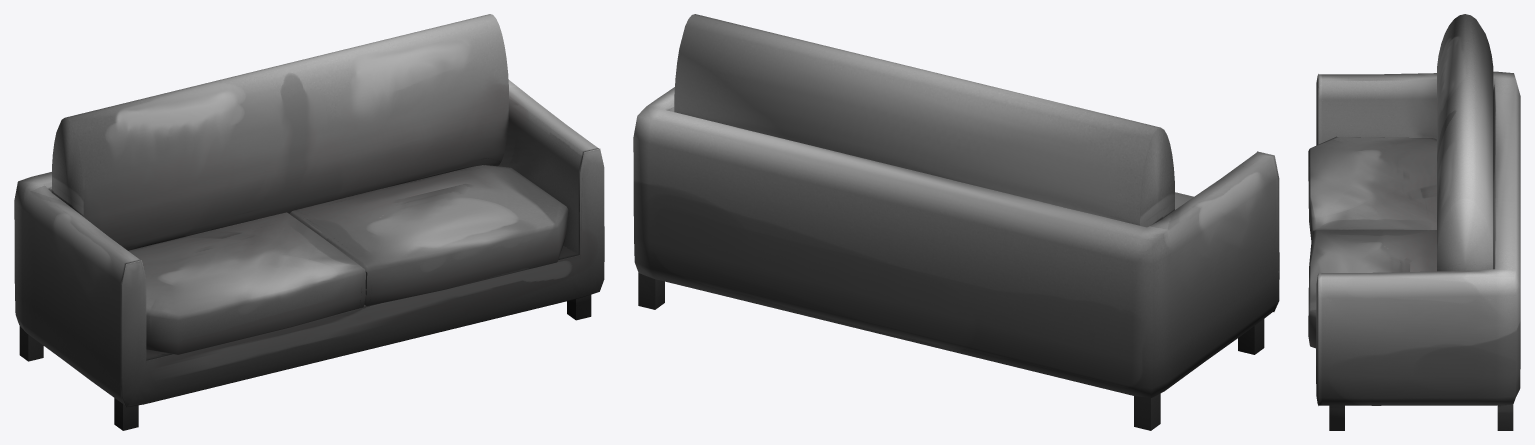
The model's file is Sofa.fbx.
The picture shows the model from 3 angles, left to right: view 1: azimuth 30°, elevation 25°; view 2: azimuth 150°, elevation 25°; view 3: azimuth 270°, elevation 25°; orthographic projection. The views are drawn at different scales.
Parts seen in each view (by area): view 1: M_Sofa; view 2: M_Sofa; view 3: M_Sofa.
Part boxes in pixels (left/top/right/bottom): M_Sofa: left=14, top=14, right=604, bottom=430; M_Sofa: left=633, top=14, right=1279, bottom=430; M_Sofa: left=1308, top=14, right=1520, bottom=430.
Bounding box in the file's own units: 1.87 × 0.9291 × 0.8007.
